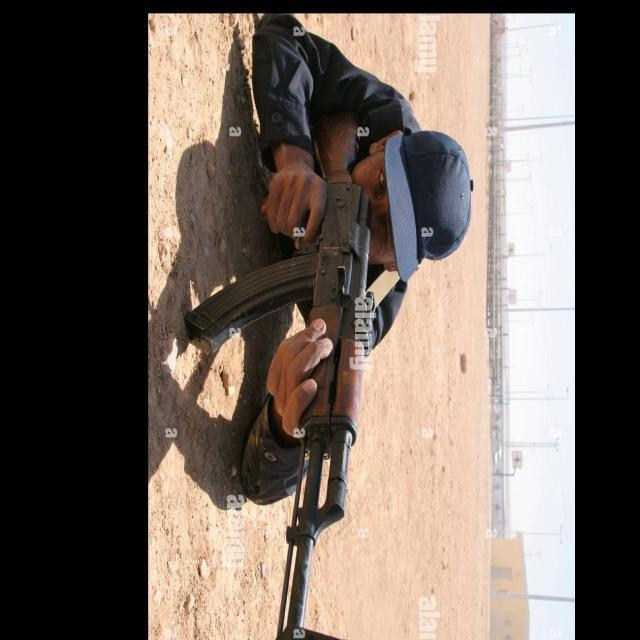Rifle: (186, 112, 371, 640)
